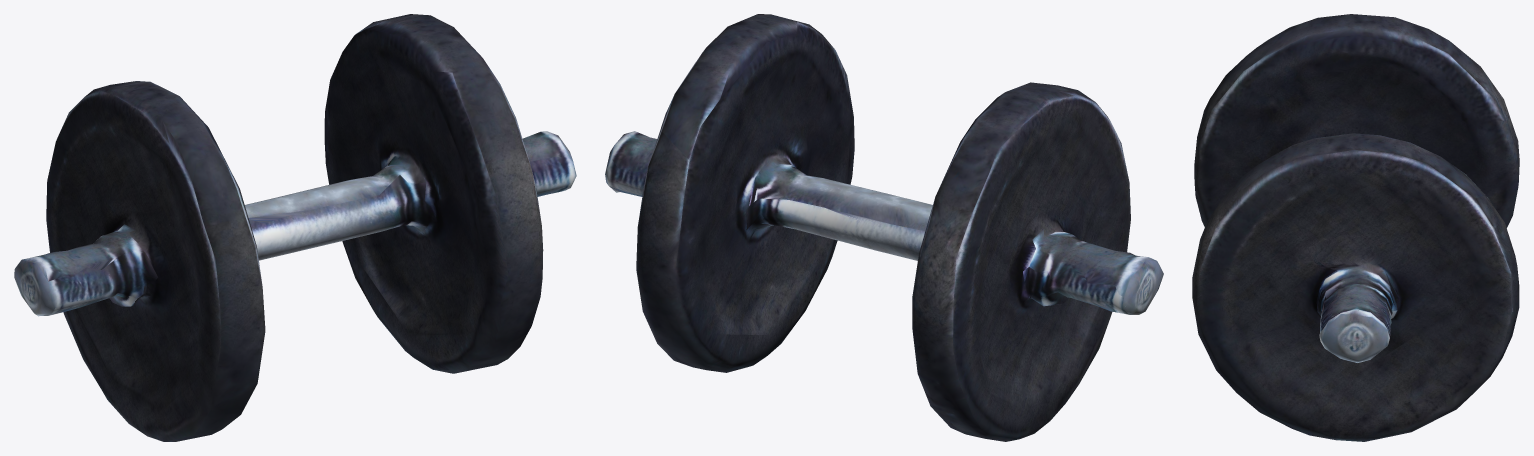
File: P_Dumbbell01.fbx
3 views of the same model, side by side, from view 1: azimuth 30°, elevation 25°; view 2: azimuth 150°, elevation 25°; view 3: azimuth 270°, elevation 25° (orthographic). The views are drawn at different scales.
Visible parts, largest first — view 1: mesh; view 2: mesh; view 3: mesh.
Boxes of the visible parts, x1,y1,x2,y2 form: mesh: [14, 14, 576, 441]; mesh: [605, 14, 1163, 441]; mesh: [1192, 14, 1519, 441].
Bounding box in the file's own units: 47.15 × 28.09 × 28.29.
1 material, 1 textured.
